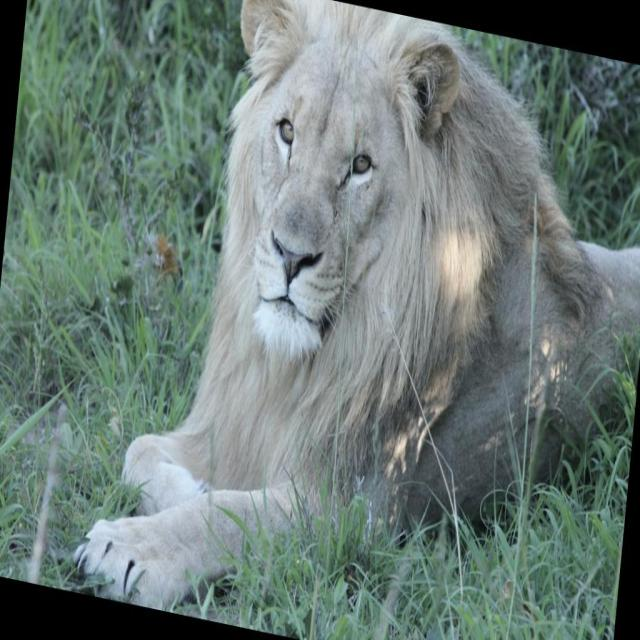Lion: (69, 0, 639, 639)
